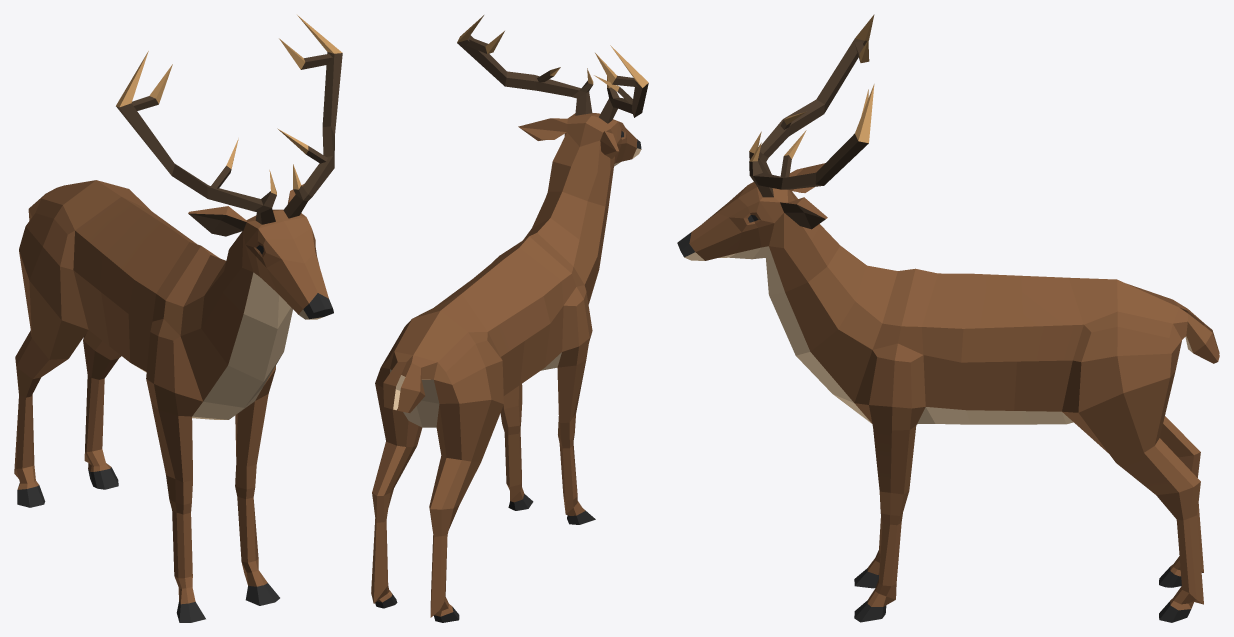
File: animals_deer.fbx
3 renders of one model, left to right at view 1: azimuth 30°, elevation 25°; view 2: azimuth 150°, elevation 25°; view 3: azimuth 270°, elevation 25°, orthographic. The views are drawn at different scales.
Parts seen in each view (by area): view 1: animals_deer; view 2: animals_deer; view 3: animals_deer.
Boxes of the visible parts, x1,y1,x2,y2 form: animals_deer: (14,15,342,622); animals_deer: (371,15,648,622); animals_deer: (677,14,1219,622).
Size of the model in its own units: 81.44 by 200 by 178.
